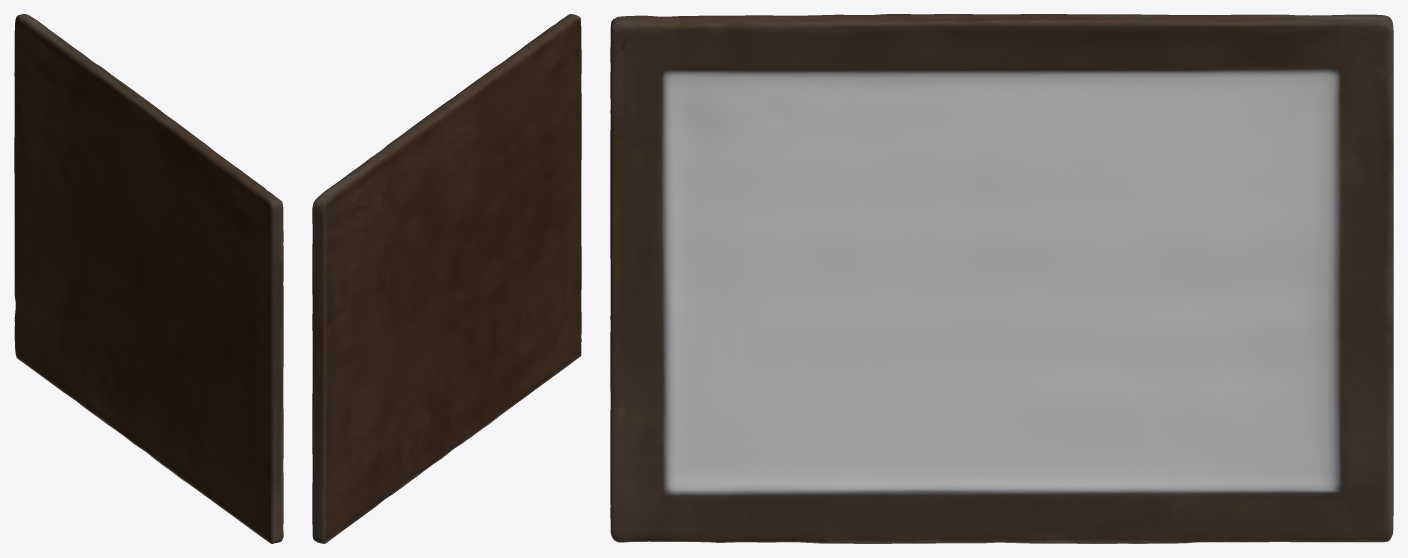
Rendered from board.glb.
3 views of the same model, side by side, from view 1: azimuth 30°, elevation 25°; view 2: azimuth 150°, elevation 25°; view 3: azimuth 270°, elevation 25° (orthographic). The views are drawn at different scales.
Parts seen in each view (by area): view 1: Mesh; view 2: Mesh; view 3: Mesh.
Boxes of the visible parts, box(x1,y1,x2,y2) form: Mesh: box(14, 14, 283, 543); Mesh: box(312, 14, 581, 543); Mesh: box(610, 14, 1393, 543).
Size of the model in its own units: 0.0292 by 0.5937 by 0.8049.
1 material, 1 textured.
